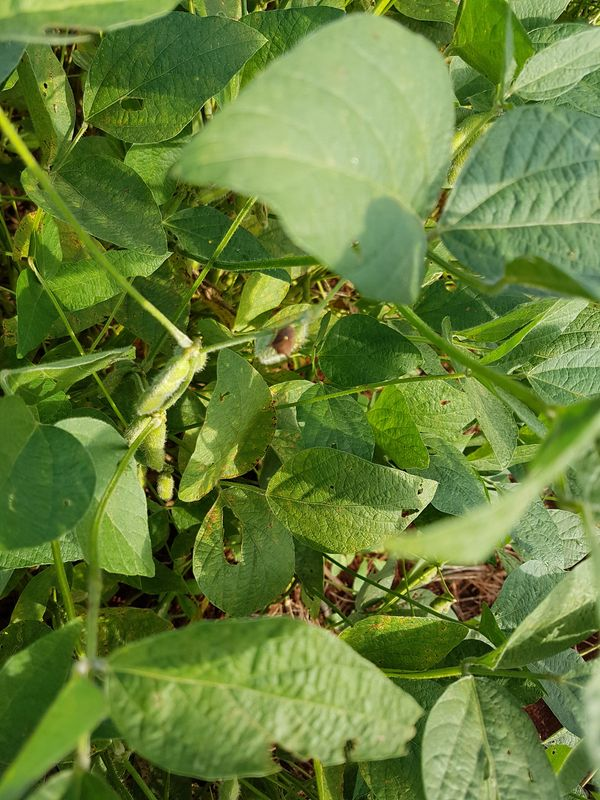Euschistus_heros_adulto: (263, 321, 302, 364)
